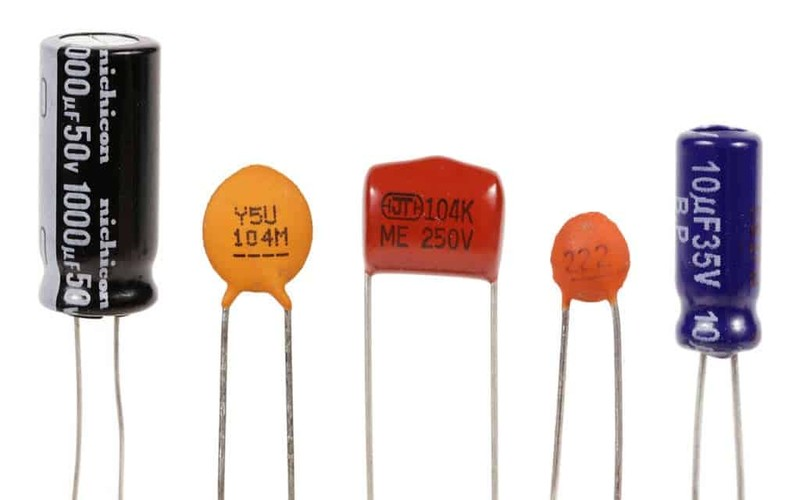Capacitor: (22, 20, 170, 498), (350, 120, 510, 500), (660, 91, 792, 500), (190, 131, 317, 500), (525, 178, 649, 500)
